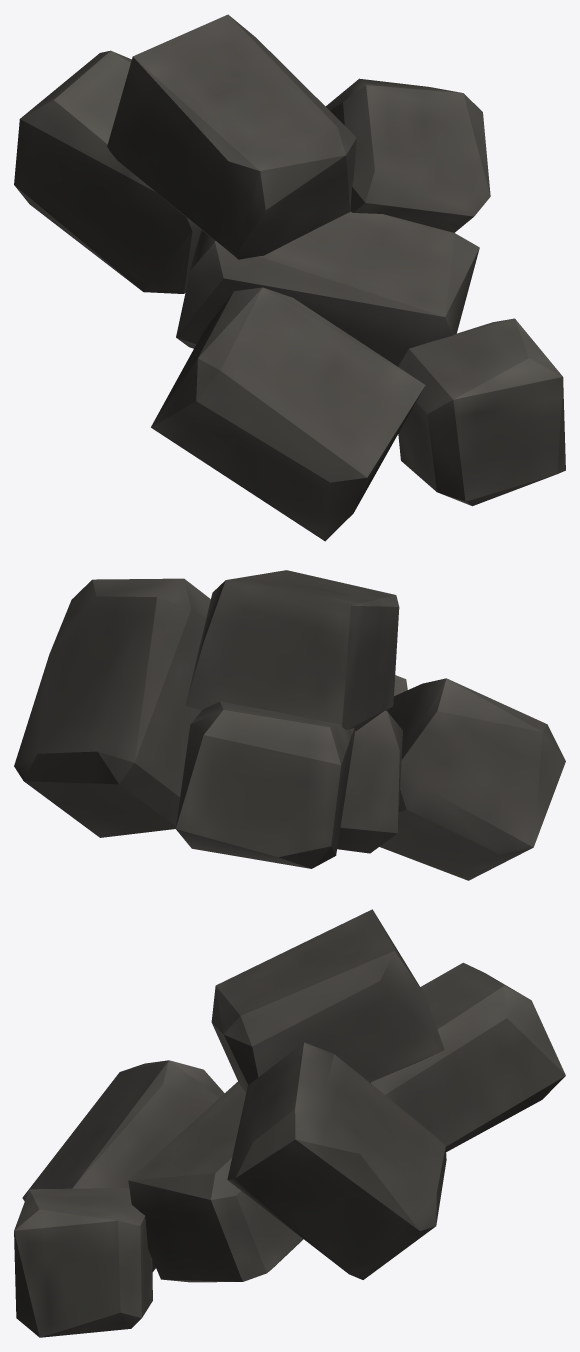
File: Brickwall_debris1.fbx
The picture shows the model from 3 angles, top to bottom: view 1: azimuth 30°, elevation 25°; view 2: azimuth 150°, elevation 25°; view 3: azimuth 270°, elevation 25°; orthographic projection. The views are drawn at different scales.
Parts seen in each view (by area): view 1: Brickwall_debris1; view 2: Brickwall_debris1; view 3: Brickwall_debris1.
Boxes of the visible parts, x1,y1,x2,y2 form: Brickwall_debris1: [14, 14, 565, 541]; Brickwall_debris1: [14, 570, 565, 880]; Brickwall_debris1: [14, 909, 565, 1337].
Bounding box in the file's own units: 119 × 115 × 161.
1 material, 1 textured.
